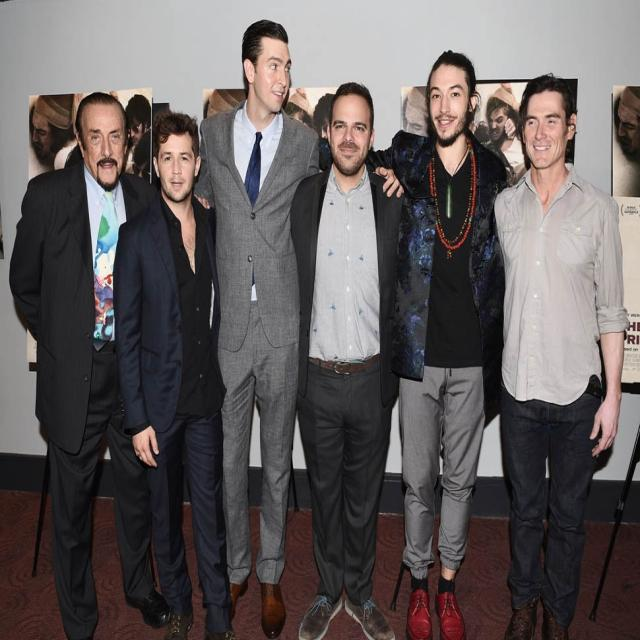body: (191, 16, 408, 640), (317, 47, 512, 640), (7, 89, 175, 640), (491, 70, 629, 639), (16, 75, 640, 192), (288, 84, 408, 640), (111, 110, 237, 638)
